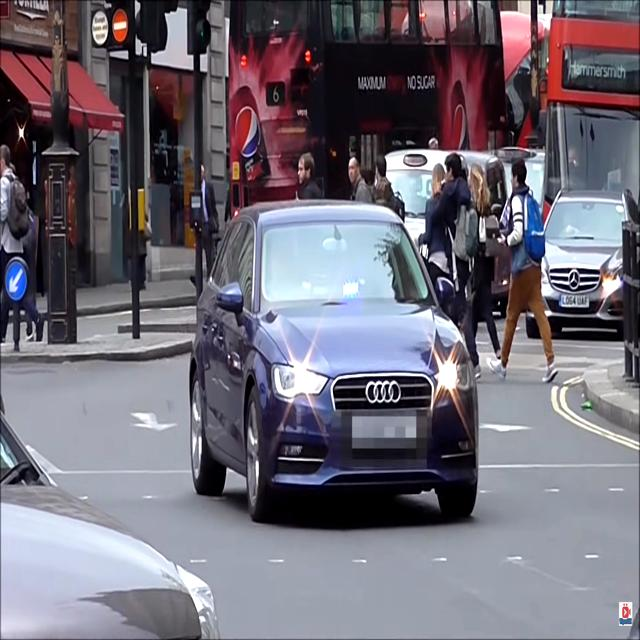emergency-vehicles: (172, 199, 514, 546)
